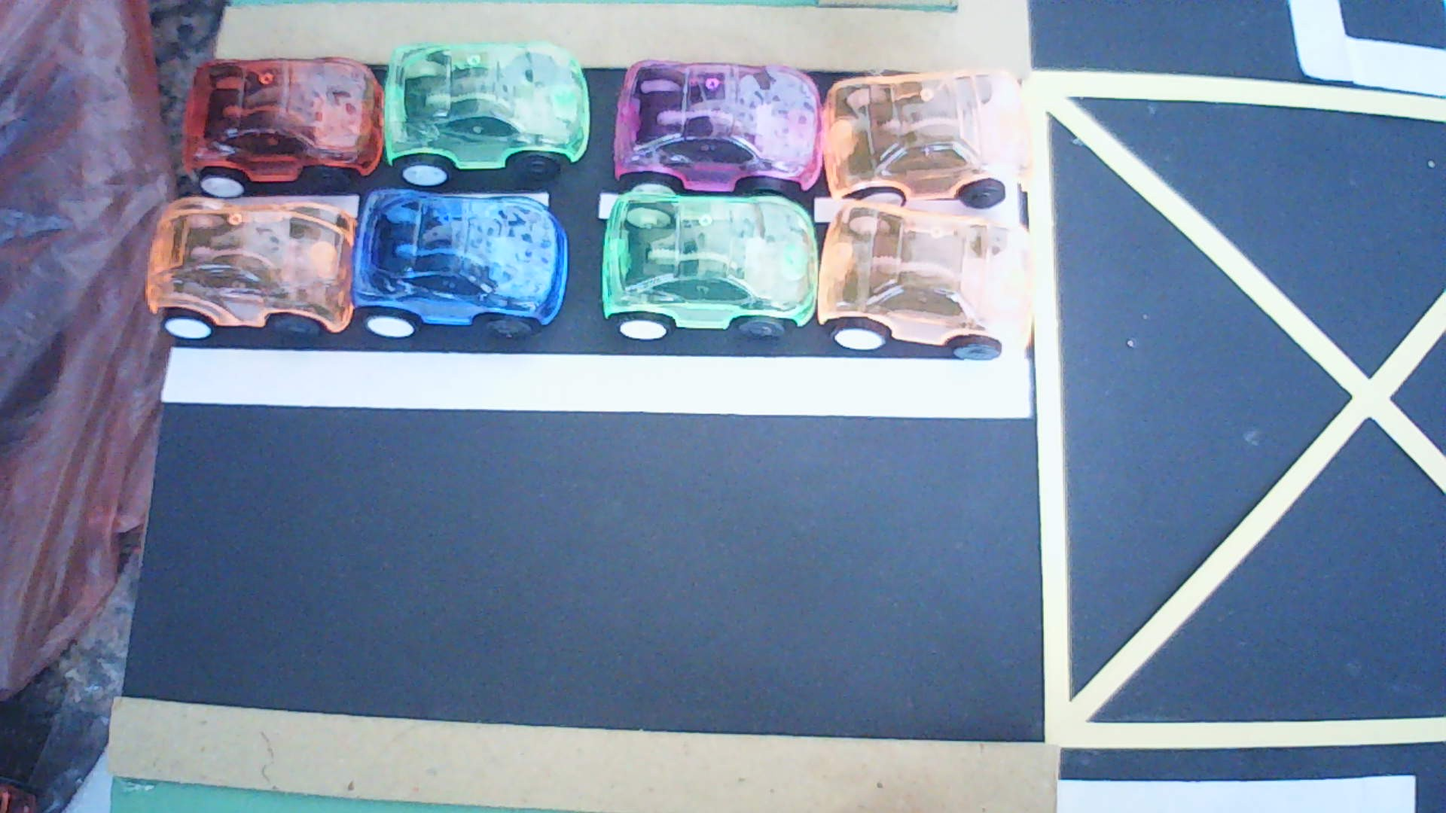Mobil biru: (352, 188, 568, 338)
Mobil hijau: (601, 187, 819, 340), (383, 41, 590, 187)
Mobil merah: (183, 58, 383, 197)
Mobil orange: (817, 202, 1032, 360), (145, 196, 355, 339), (823, 69, 1028, 210)
Mobil ungu: (614, 60, 821, 194)
